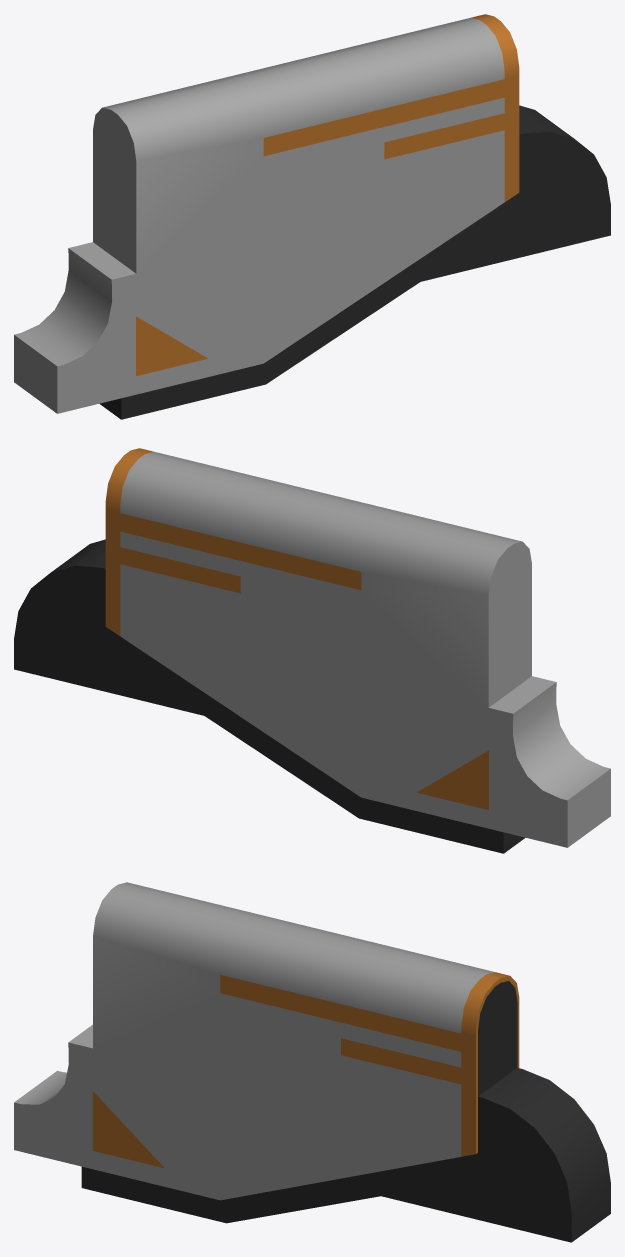
The model's file is quaternius-modular-sci-fi-guns-body-grenade-1.glb.
3 renders of one model, top to bottom at view 1: azimuth 30°, elevation 25°; view 2: azimuth 150°, elevation 25°; view 3: azimuth 330°, elevation 25°, orthographic.
Visible parts, largest first — view 1: Body_Grenade_1; view 2: Body_Grenade_1; view 3: Body_Grenade_1.
Boxes of the visible parts, x1,y1,x2,y2 form: Body_Grenade_1: [14, 14, 610, 419]; Body_Grenade_1: [14, 448, 610, 853]; Body_Grenade_1: [14, 882, 610, 1242].
Size of the model in its own units: 0.8098 by 0.4036 by 0.1094.
